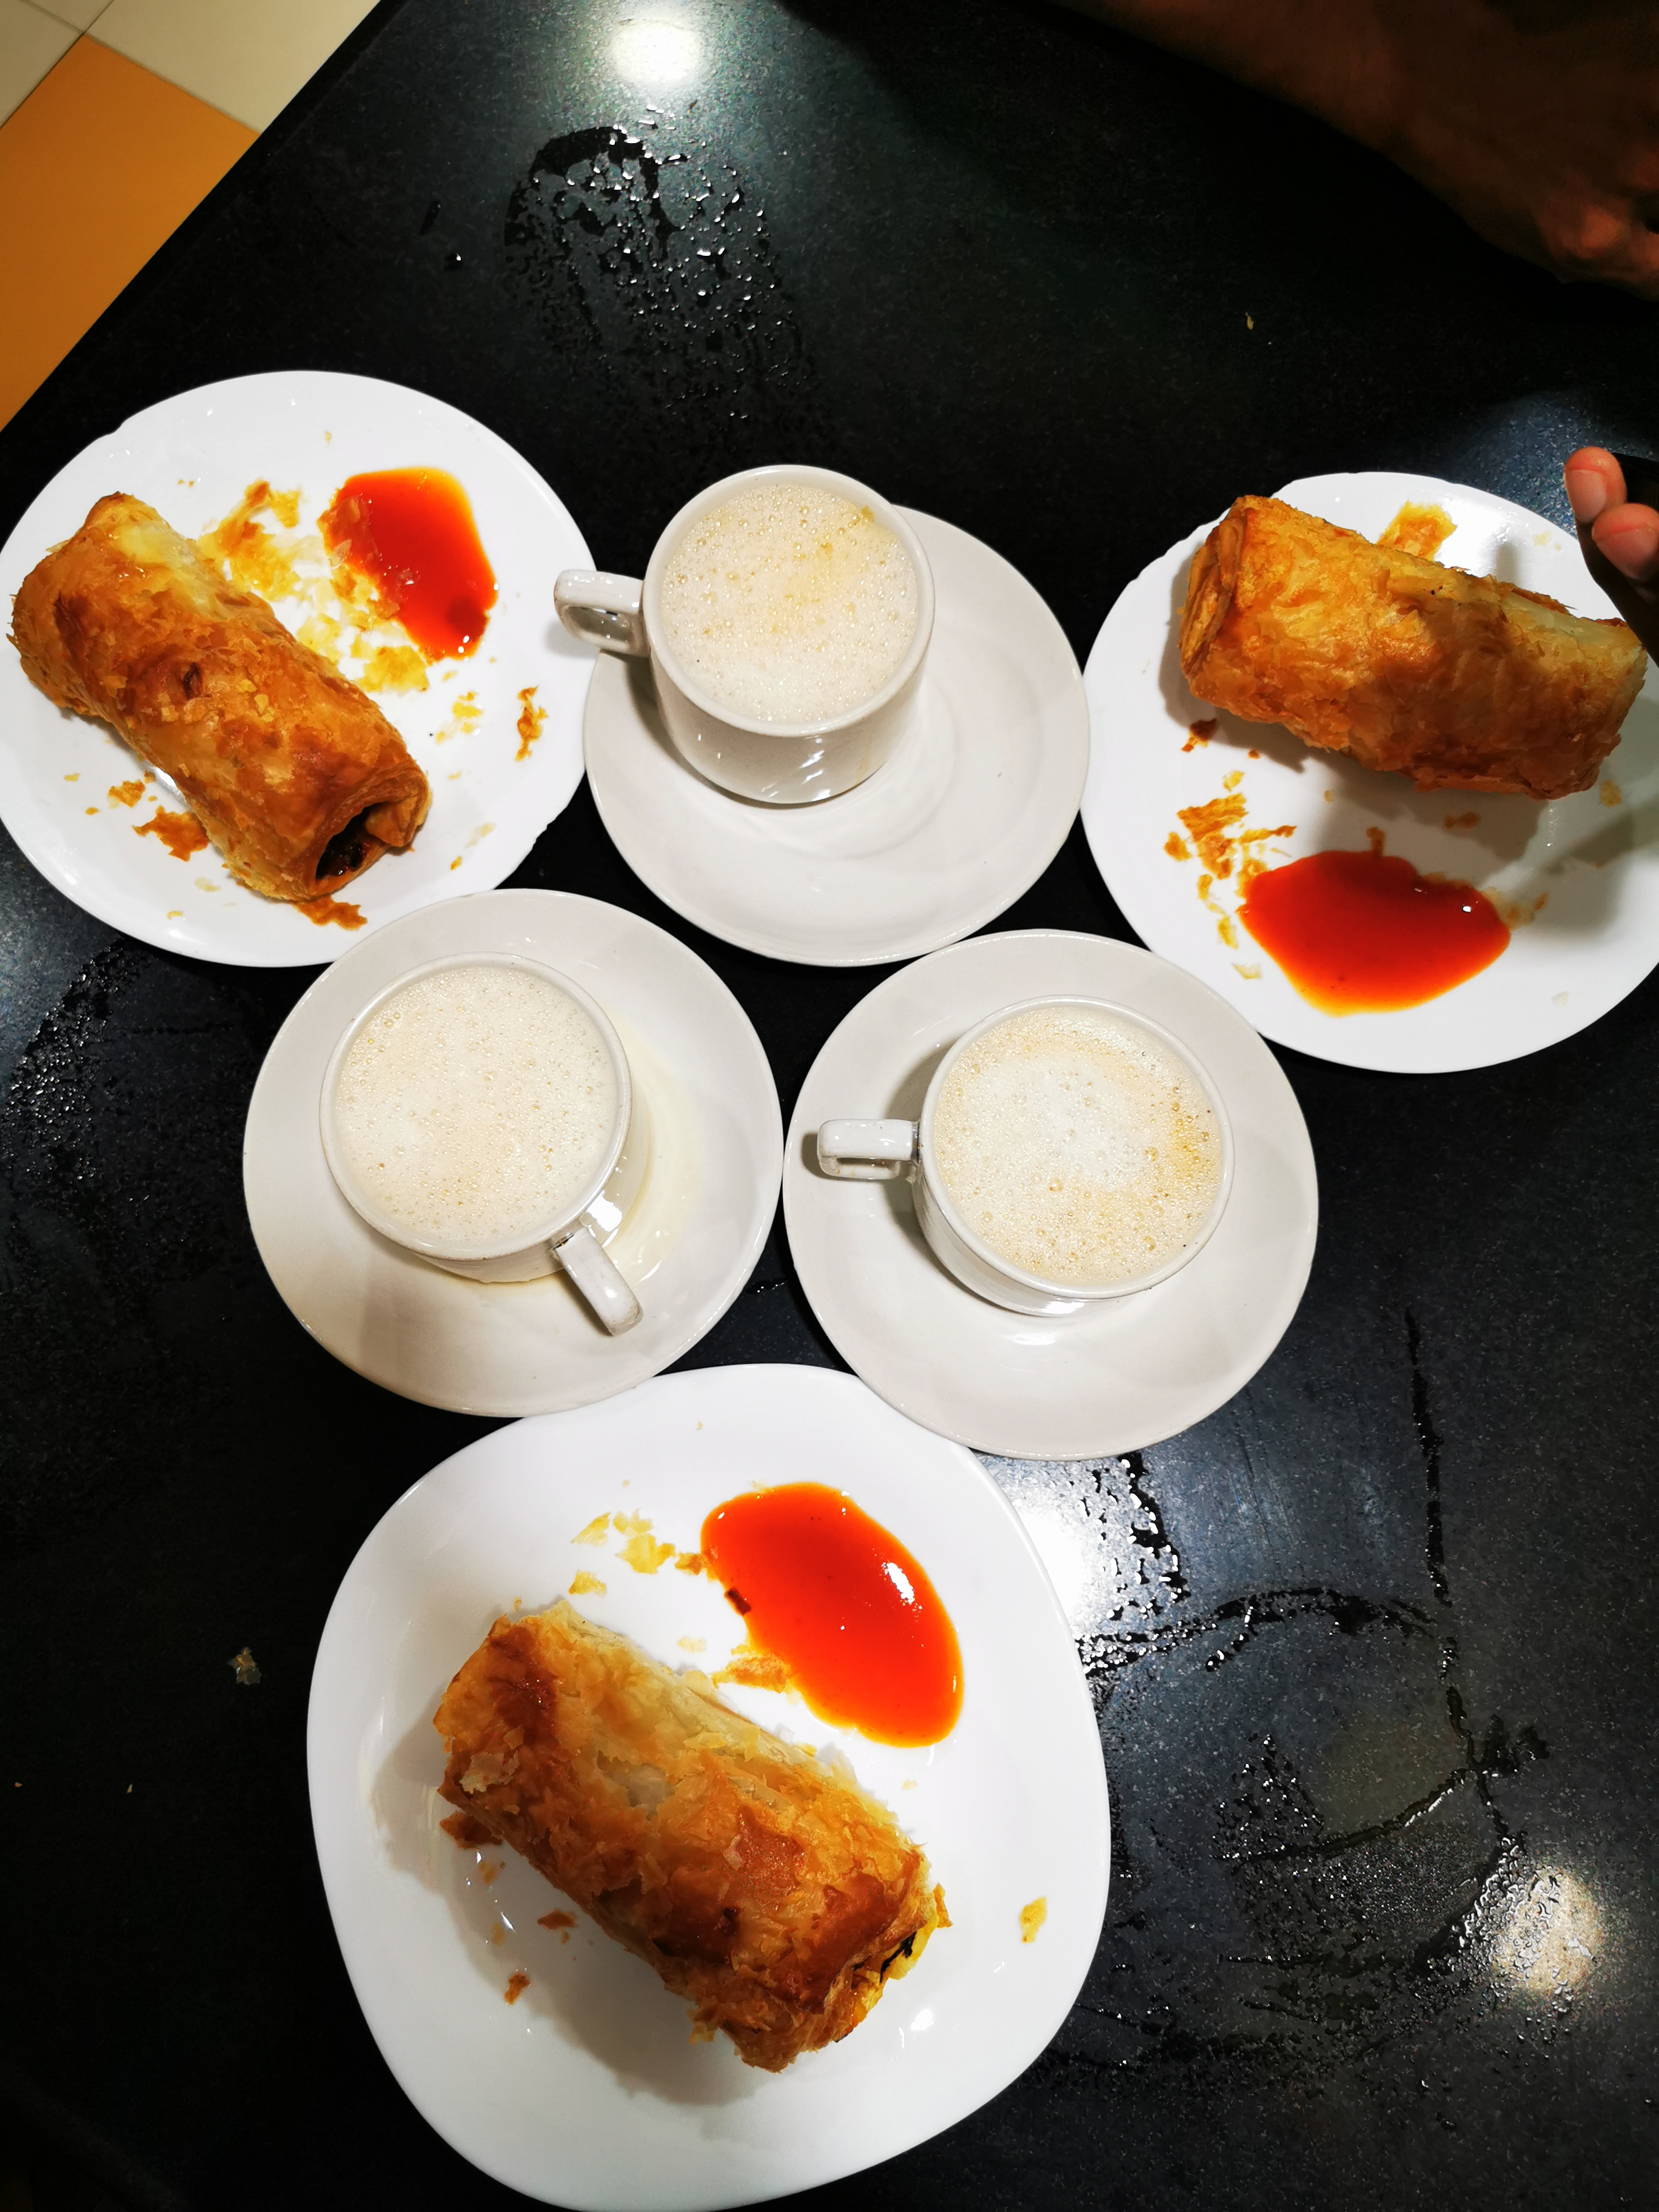food: (420, 1465, 978, 2085), (1171, 482, 1652, 1017), (0, 453, 502, 916), (795, 986, 1244, 1329), (545, 442, 938, 813), (293, 935, 653, 1338)
